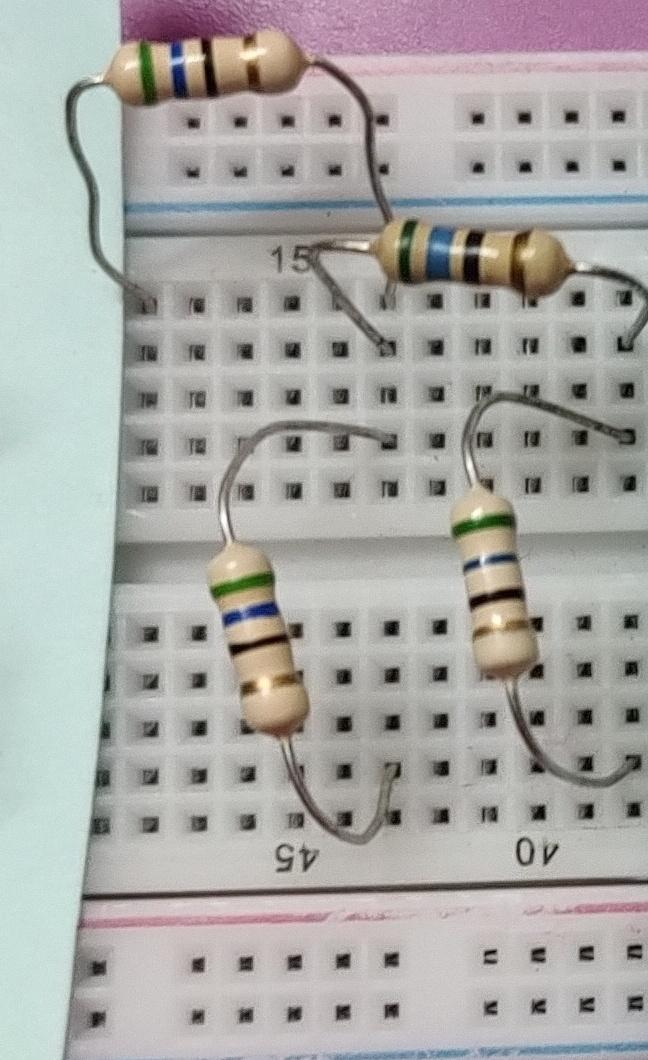resistor: (201, 529, 331, 755), (445, 473, 555, 721), (369, 203, 573, 316), (99, 21, 316, 117)
